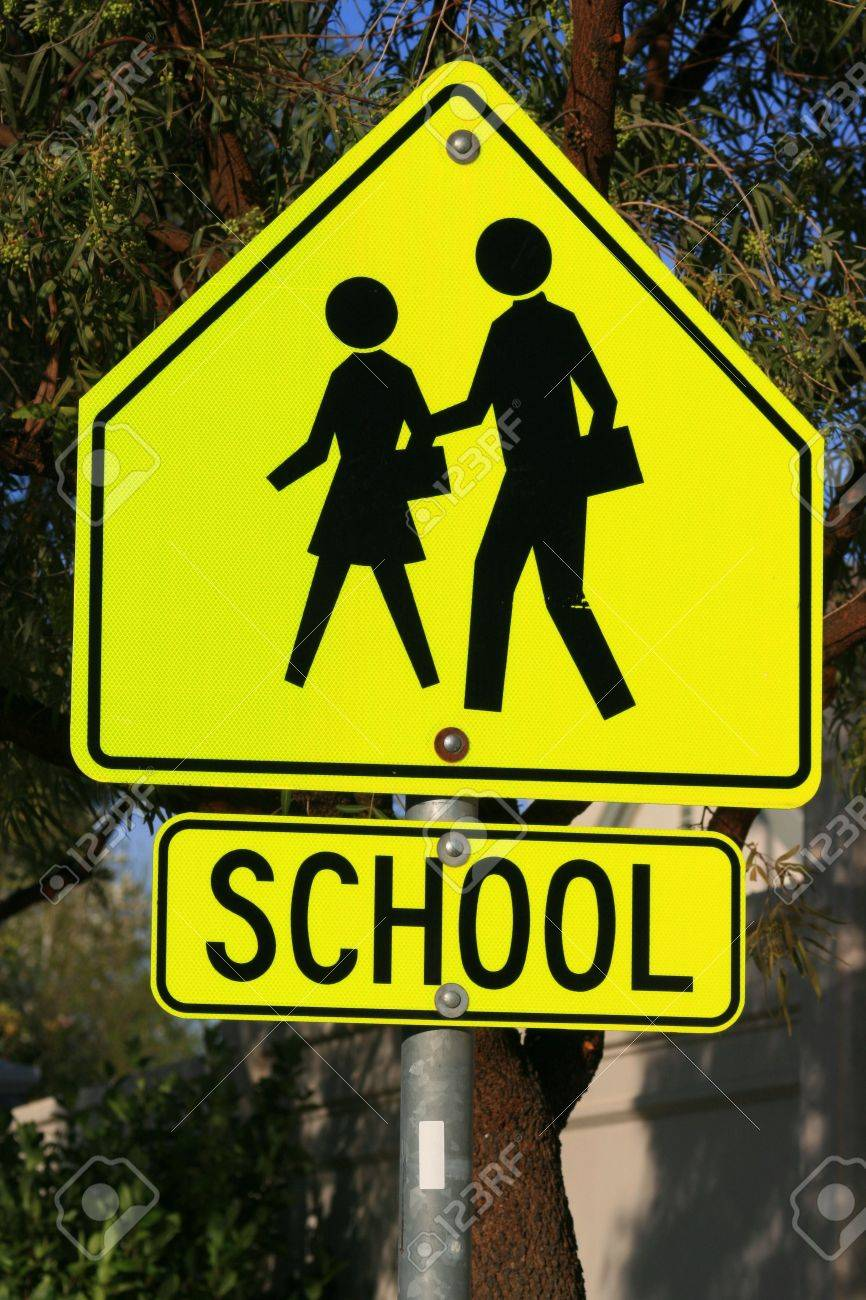slow: (61, 63, 830, 810)
